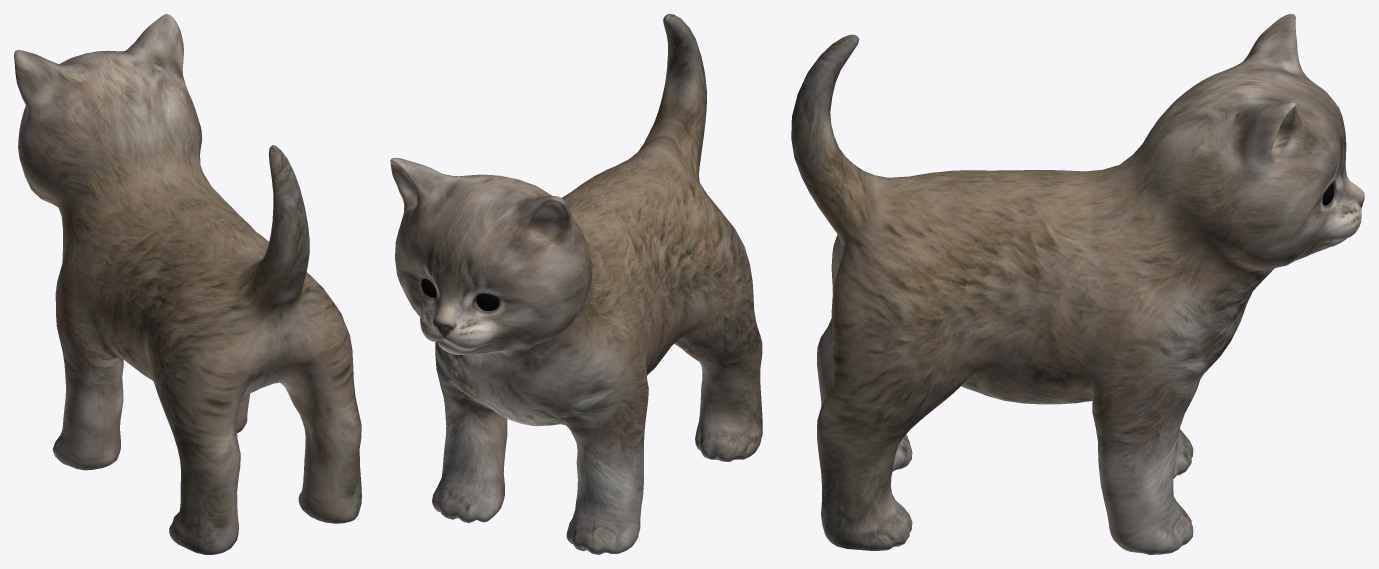
Rendered from kucing.glb.
The picture shows the model from 3 angles, left to right: view 1: azimuth 30°, elevation 25°; view 2: azimuth 150°, elevation 25°; view 3: azimuth 270°, elevation 25°; orthographic projection. The views are drawn at different scales.
Visible parts, largest first — view 1: Object_4, Object_3; view 2: Object_4, Object_3, Object_2; view 3: Object_4, Object_3.
Part boxes in pixels (left/top/right/bottom): Object_4: left=14, top=14, right=361, bottom=554; Object_3: left=14, top=24, right=273, bottom=375; Object_4: left=392, top=14, right=762, bottom=554; Object_3: left=390, top=14, right=730, bottom=543; Object_2: left=421, top=278, right=499, bottom=310; Object_4: left=791, top=14, right=1364, bottom=554; Object_3: left=847, top=35, right=1364, bottom=538.
Size of the model in its own units: 5.34 by 10.87 by 11.97.
2 materials, 2 textured.
